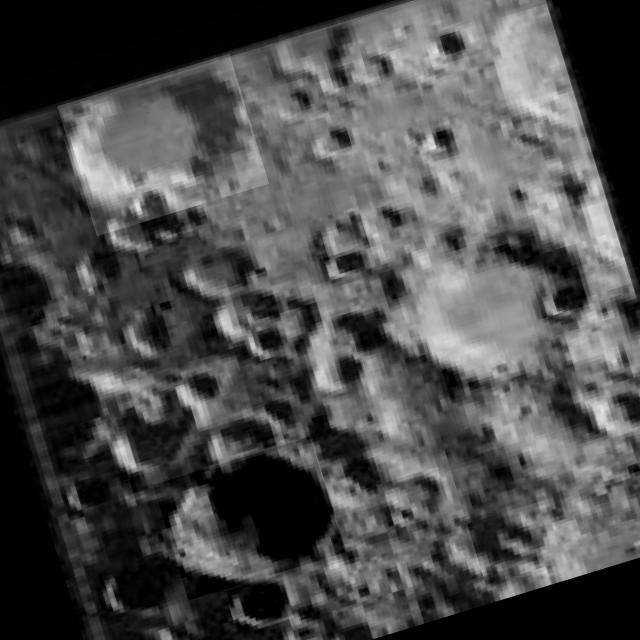crater: (57, 54, 269, 235), (392, 214, 604, 392), (153, 436, 345, 600), (105, 378, 208, 476), (226, 574, 294, 632), (538, 271, 598, 320)
